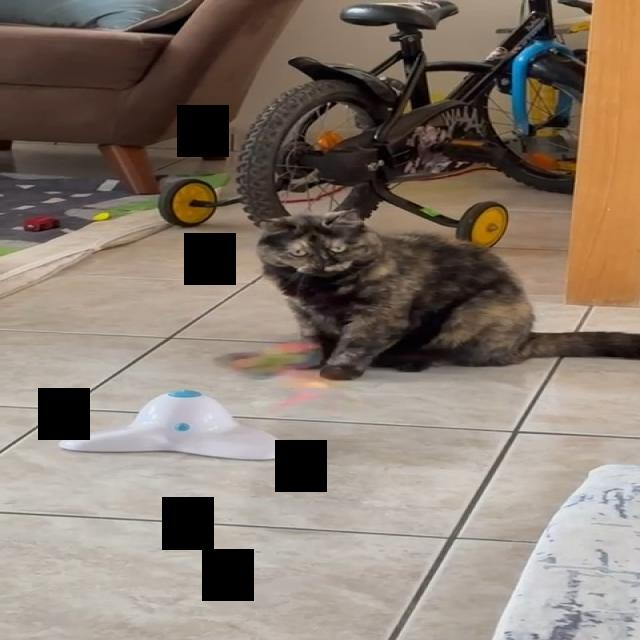authorized: (253, 208, 639, 381)
